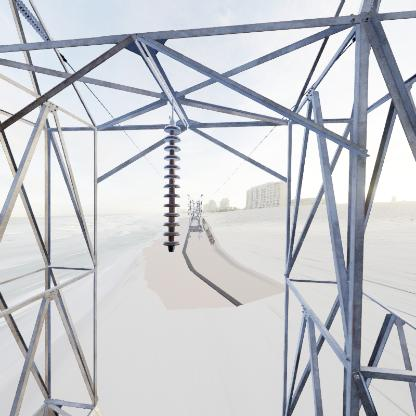insulator: (158, 121, 185, 257)
